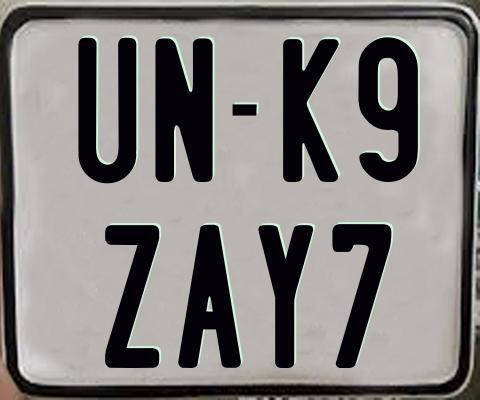7: (329, 223, 393, 368)
9: (358, 35, 424, 181)
A: (176, 223, 244, 366)
K: (282, 39, 338, 185)
N: (152, 36, 210, 183)
U: (75, 35, 139, 182)
Y: (258, 223, 317, 369)
Z: (104, 223, 158, 368)
